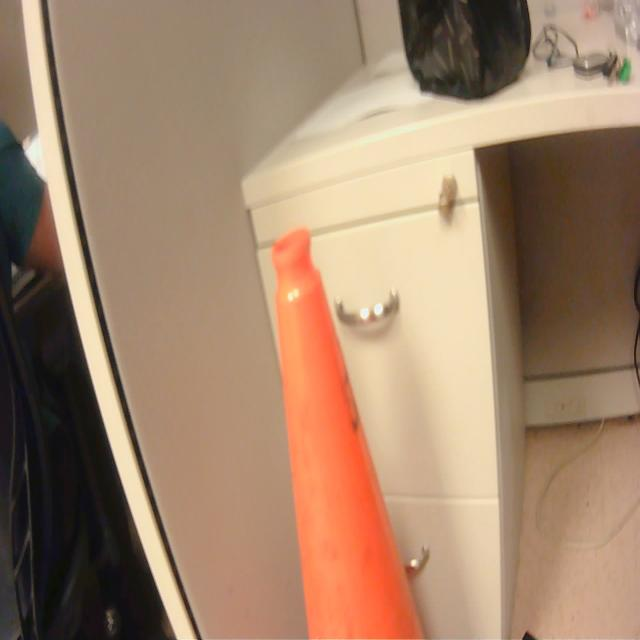traffic cone: (267, 222, 438, 640)
